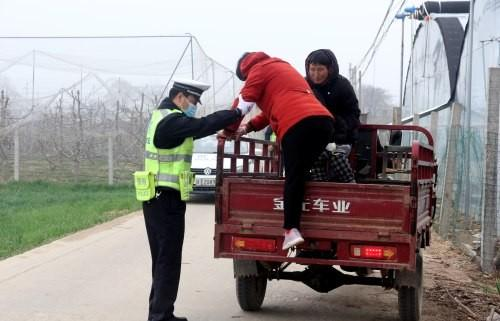overloading: (218, 47, 441, 319)
passenger: (231, 50, 308, 294), (303, 49, 381, 194)
